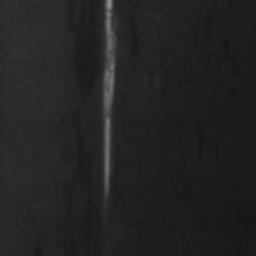Bright scratch: (102, 0, 118, 200)
